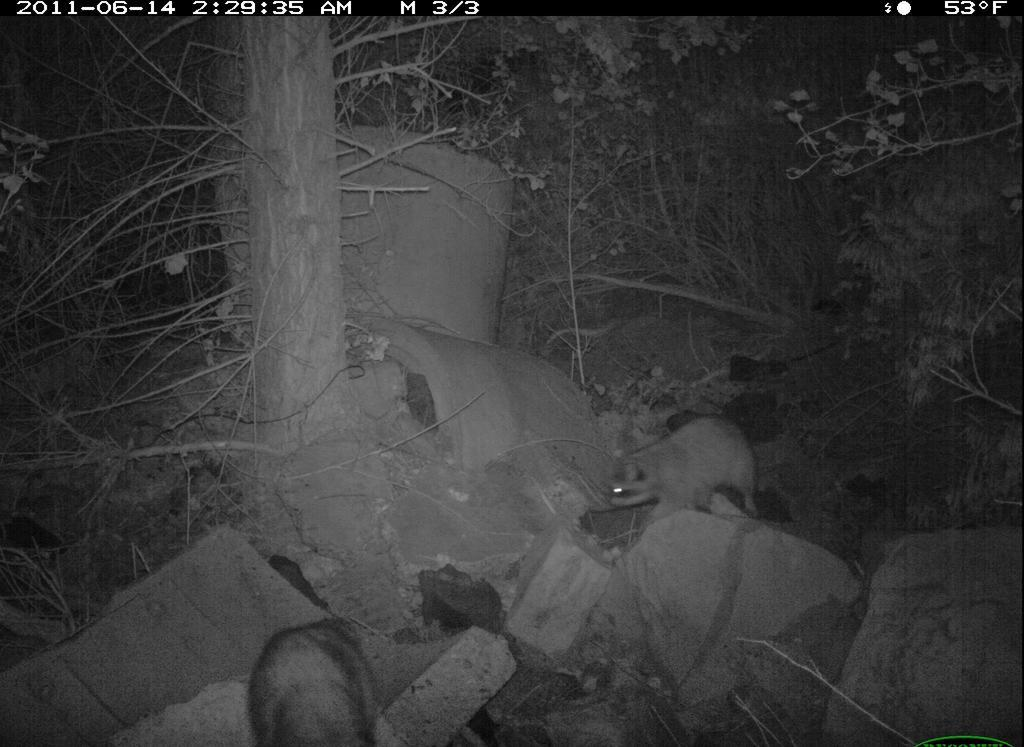raccoon: (598, 413, 783, 534), (244, 610, 395, 747)
